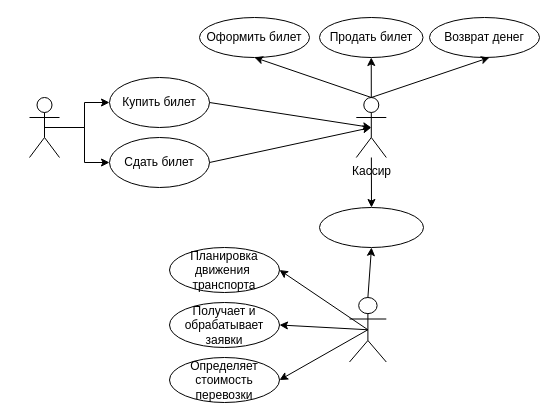
The diagram is 557 pixels wide and 420 high, and some of its shapes have lost their labels. Each missing label, with the centre of its shape:
Изменить данные: pixel 371 227
Менеджер: pixel 367 329
Пассажир: pixel 44 127
